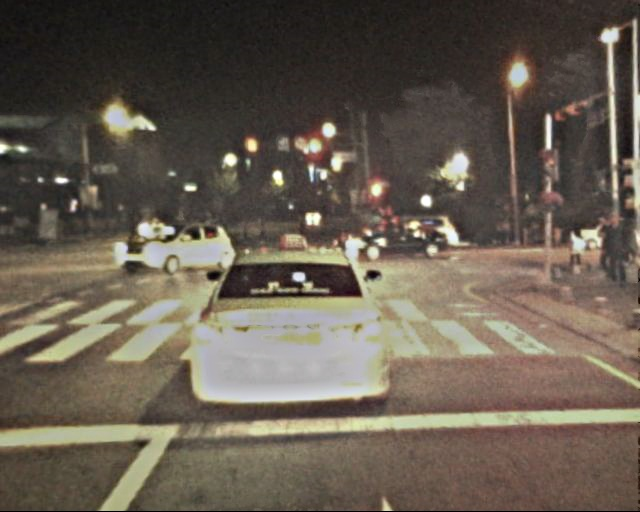person: (608, 218, 635, 283), (597, 218, 622, 279), (565, 221, 586, 273), (126, 213, 150, 245), (497, 216, 515, 251), (292, 212, 308, 251), (252, 212, 268, 250), (236, 216, 248, 245)
